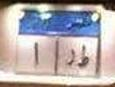1: (33, 40, 42, 68)
Taa: (78, 43, 89, 68)
raa: (62, 48, 76, 67)
